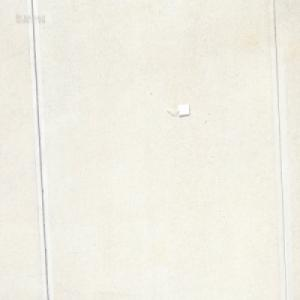LuggageTag: (166, 102, 189, 118)
